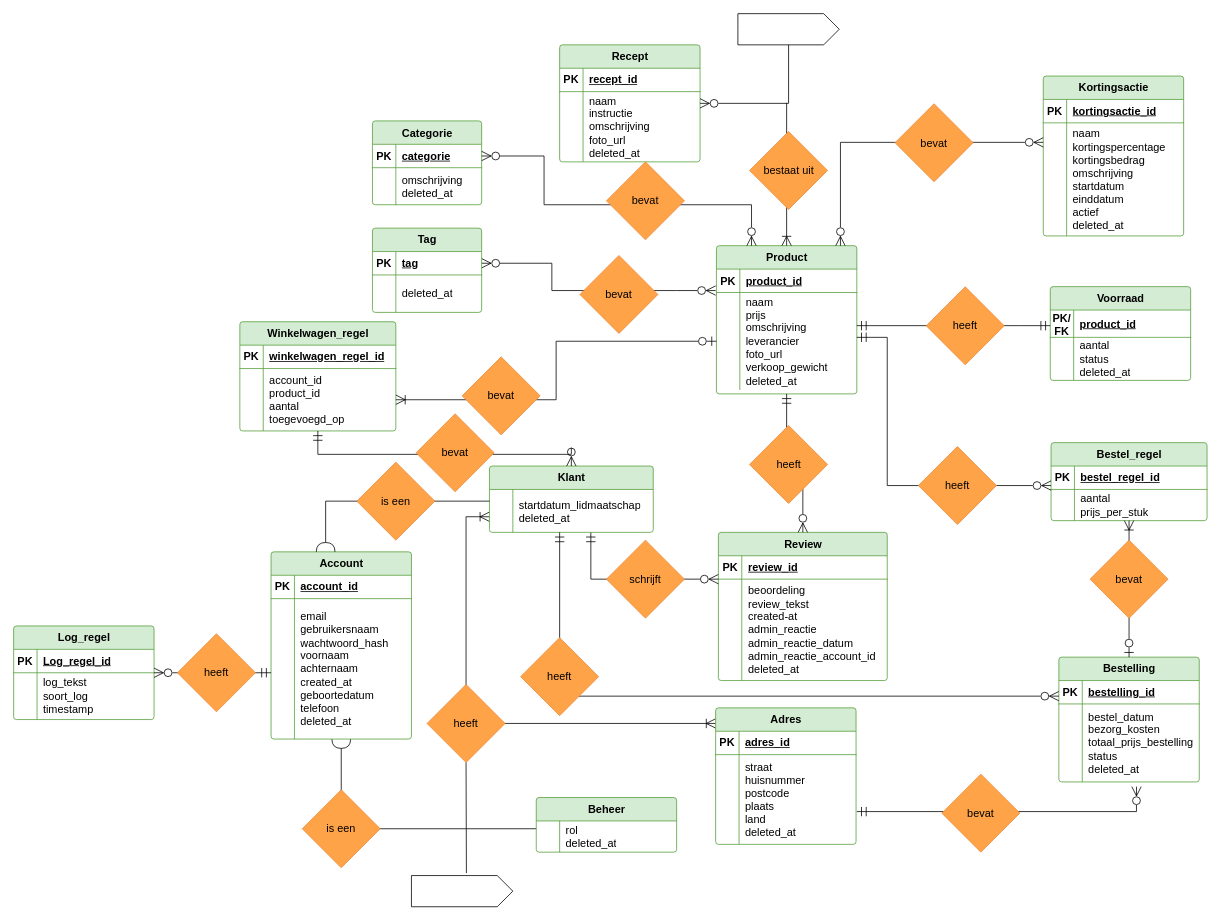
Some shapes in this 1221 by 920 pixel diagram are drawn without their labels. The shapes that lost their labels are listed below. From the top down, each one's centre as x and y in pixels, then its label:
At pixel 788 29: "Hoeveelheid".
At pixel 462 891: "soort".
